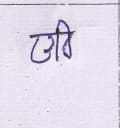i_matra: (58, 19, 74, 59)
